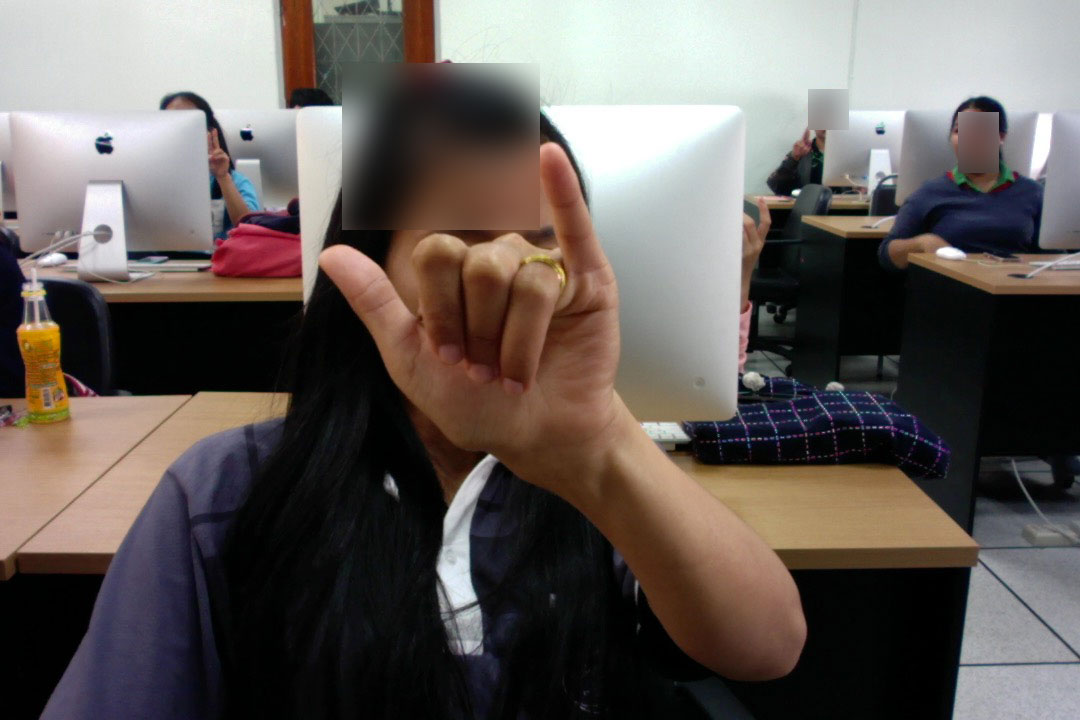yor: (312, 127, 632, 476)
